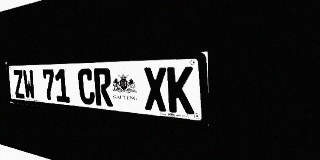1: (54, 69, 70, 103)
7: (41, 69, 56, 102)
C: (77, 68, 95, 105)
K: (167, 66, 194, 114)
R: (93, 68, 113, 107)
W: (22, 70, 36, 100)
X: (143, 67, 168, 112)
Z: (12, 70, 25, 99)
